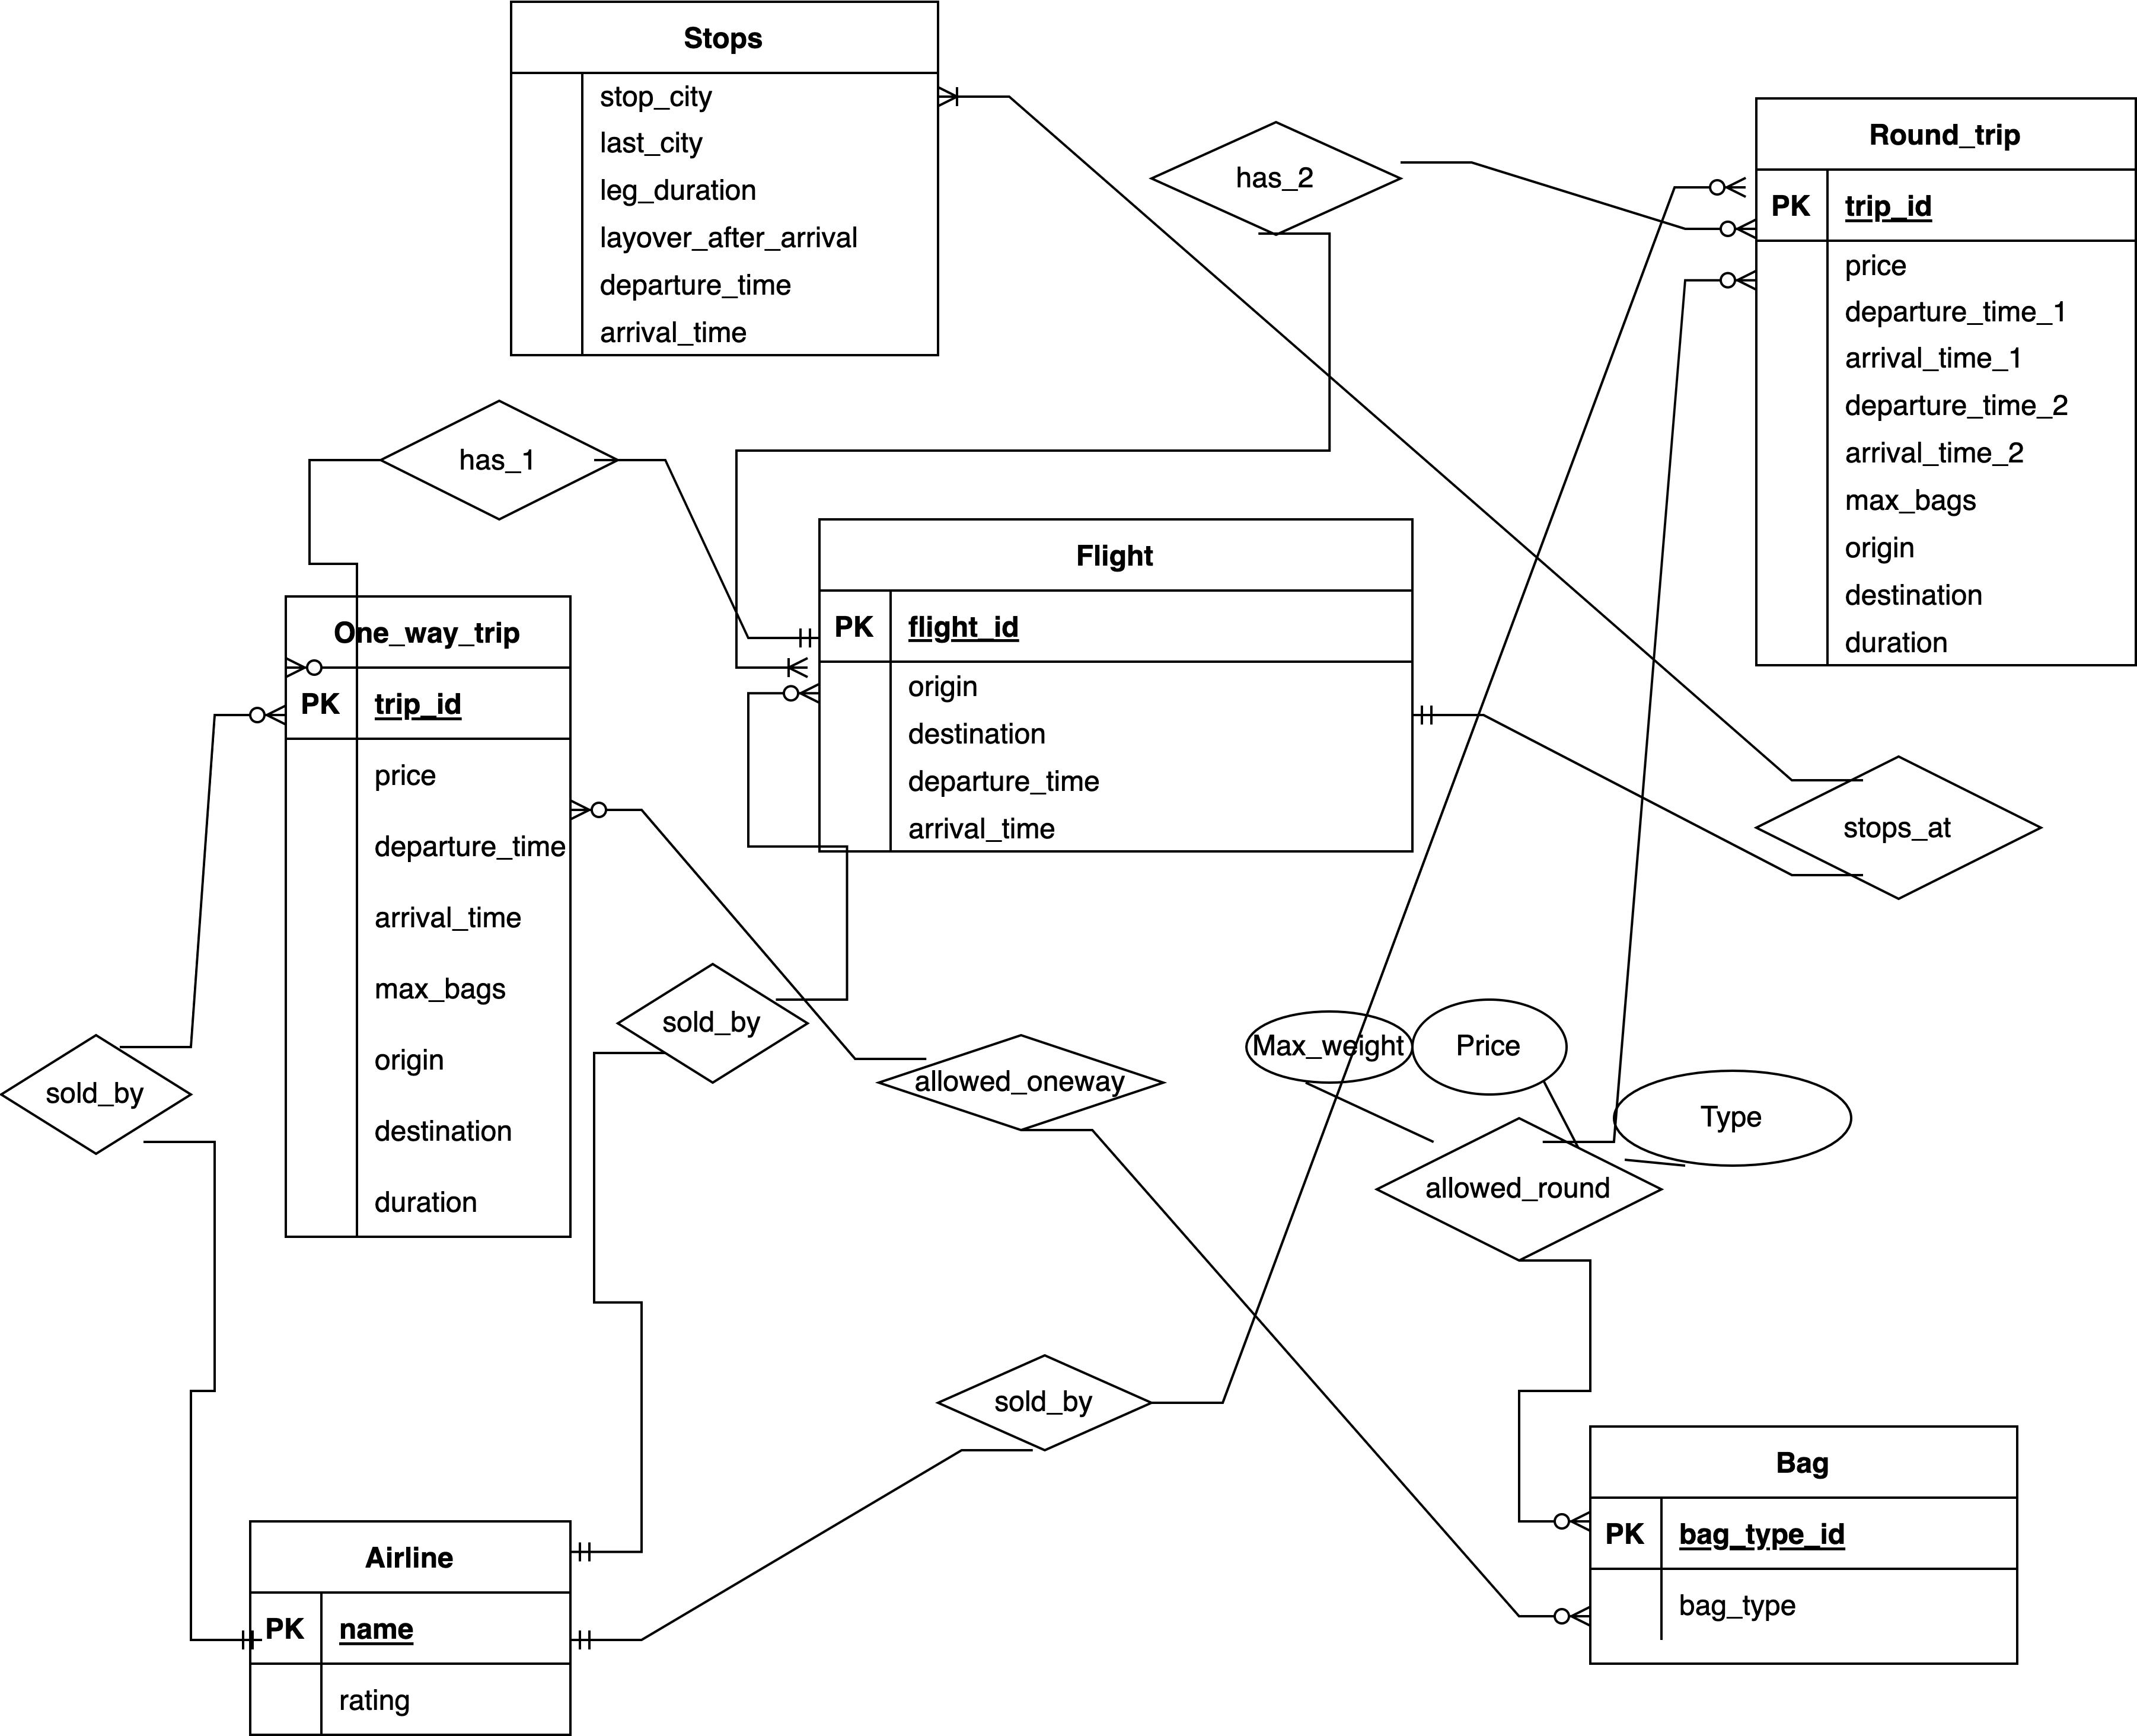attribute: (1618, 1066, 1852, 1171), (1412, 999, 1565, 1097), (1244, 1010, 1409, 1089)
entity: (1749, 94, 2137, 673), (817, 521, 1418, 854), (285, 595, 571, 1238), (500, 0, 943, 360), (1586, 1421, 2024, 1669), (243, 1516, 579, 1736)
relationship: (1758, 755, 2045, 902), (1380, 1114, 1662, 1263), (1150, 120, 1405, 236), (388, 400, 613, 521), (0, 1033, 186, 1169), (884, 1035, 1164, 1125), (615, 967, 806, 1089), (937, 1350, 1152, 1445)
